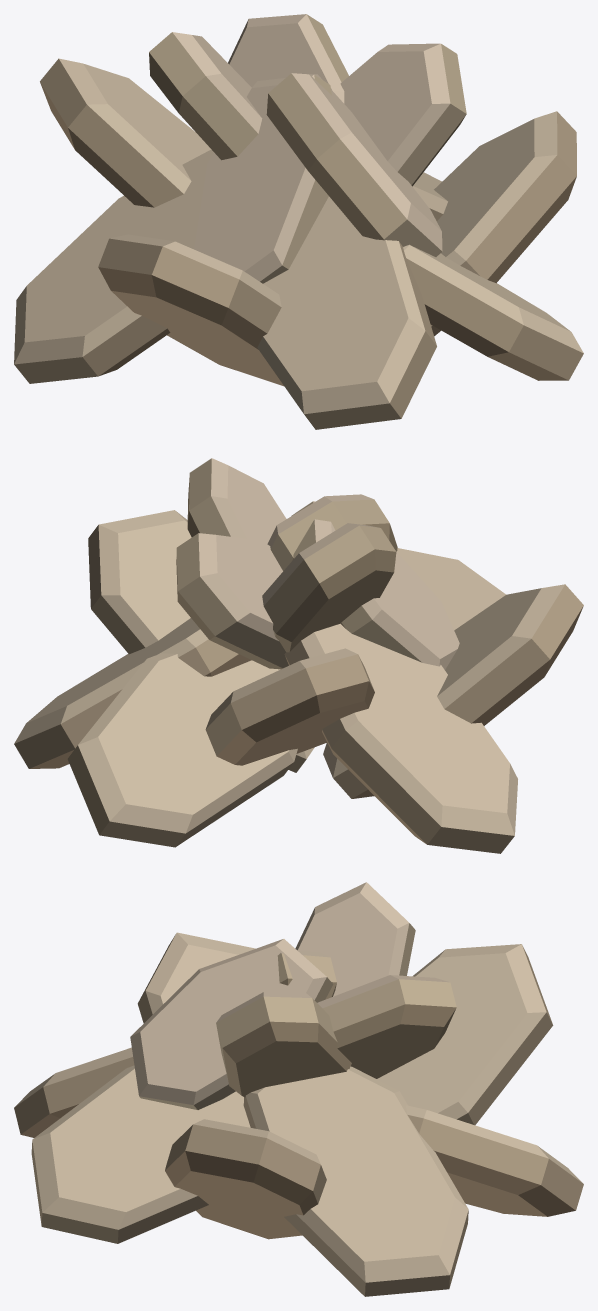
The model's file is salzsee_04.glb.
3 renders of one model, top to bottom at view 1: azimuth 30°, elevation 25°; view 2: azimuth 150°, elevation 25°; view 3: azimuth 270°, elevation 25°, orthographic. The views are drawn at different scales.
Parts seen in each view (by area): view 1: salzsee_04; view 2: salzsee_04; view 3: salzsee_04.
Part boxes in pixels (x1,y1,x2,y2): salzsee_04: (14,14,583,429); salzsee_04: (14,458,583,853); salzsee_04: (14,882,583,1296).
Bounding box in the file's own units: 1.87 × 1.15 × 2.
